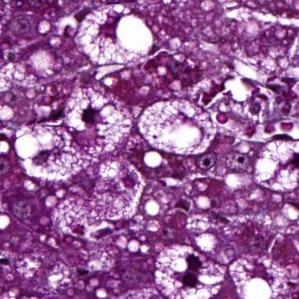ballooning: (61, 80, 133, 158), (74, 3, 156, 69), (135, 95, 219, 159), (13, 120, 95, 183), (153, 240, 227, 299)
